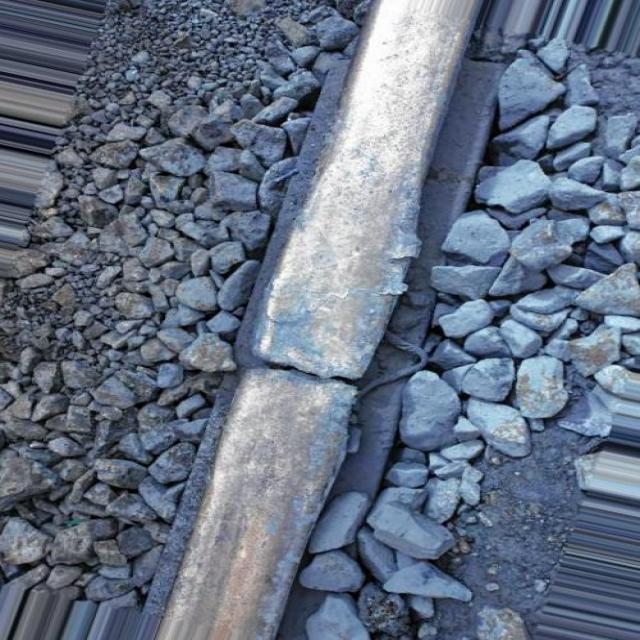crack: (236, 306, 382, 428)
